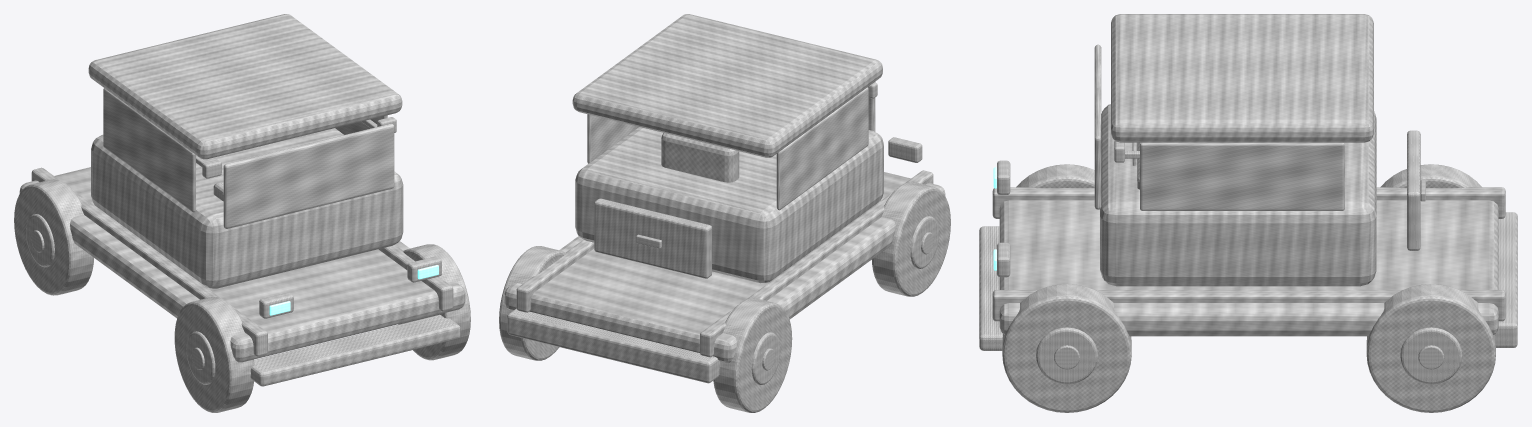
Rendered from explorer_variant_b.glb.
3 renders of one model, left to right at view 1: azimuth 30°, elevation 25°; view 2: azimuth 150°, elevation 25°; view 3: azimuth 270°, elevation 25°, orthographic. The views are drawn at different scales.
Visible parts, largest first — view 1: Roof canopy, Lower cabin shell, Tubular chassis.001, Front windshield, Front skid plate.001, Off-road tire.004, Side window, Off-road tire.005, Longitudinal frame rail.002, Off-road tire.006, Longitudinal frame rail.003, Wheel hub.004 (+3 smaller); view 2: Roof canopy, Lower cabin shell, Tubular chassis.001, Rear storage hatch.001, Rear bumper.001, Side window, Off-road tire.005, Off-road tire.004, Longitudinal frame rail.002, Driver seat back.001, Off-road tire.007, Longitudinal frame rail.003 (+4 smaller); view 3: Roof canopy, Tubular chassis.001, Lower cabin shell, Side window.001, Off-road tire.006, Off-road tire.007, Longitudinal frame rail.003, Longitudinal frame rail.002, Rear bumper.001, Wheel hub.006, Wheel hub.007, Front skid plate.001 (+6 smaller).
Part boxes in pixels (box(x1,y1,x2,y2)): Roof canopy: box(88, 14, 402, 159); Lower cabin shell: box(91, 128, 403, 288); Tubular chassis.001: box(19, 167, 465, 362); Front windshield: box(223, 123, 394, 228); Front skid plate.001: box(250, 314, 460, 386); Off-road tire.004: box(174, 297, 254, 412); Side window: box(103, 88, 195, 212); Off-road tire.005: box(14, 179, 93, 295); Longitudinal frame rail.002: box(31, 167, 267, 356); Off-road tire.006: box(398, 244, 470, 360); Longitudinal frame rail.003: box(378, 244, 453, 311); Wheel hub.004: box(186, 331, 215, 384); Roof canopy: box(572, 14, 882, 157); Lower cabin shell: box(575, 127, 883, 283); Tubular chassis.001: box(504, 172, 945, 362); Rear storage hatch.001: box(594, 198, 711, 278); Rear bumper.001: box(507, 308, 719, 383); Side window: box(776, 87, 868, 210); Off-road tire.005: box(713, 298, 792, 412); Off-road tire.004: box(872, 182, 950, 296); Longitudinal frame rail.002: box(700, 170, 933, 357); Driver seat back.001: box(661, 133, 739, 182); Off-road tire.007: box(499, 246, 565, 360); Longitudinal frame rail.003: box(516, 239, 594, 312); Roof canopy: box(1111, 14, 1373, 142); Tubular chassis.001: box(999, 200, 1498, 336); Lower cabin shell: box(1100, 104, 1376, 286); Side window.001: box(1140, 142, 1344, 210); Off-road tire.006: box(1002, 284, 1131, 412); Off-road tire.007: box(1366, 284, 1495, 412); Longitudinal frame rail.003: box(992, 290, 1505, 321); Longitudinal frame rail.002: box(992, 187, 1505, 218); Rear bumper.001: box(1494, 212, 1517, 347); Wheel hub.006: box(1036, 327, 1097, 384); Wheel hub.007: box(1400, 327, 1462, 384); Front skid plate.001: box(979, 226, 1002, 350).
Size of what is drawn, in the model's own units: 2.44 by 2.29 by 3.99.
Materials: 8 (8 with a texture image).
